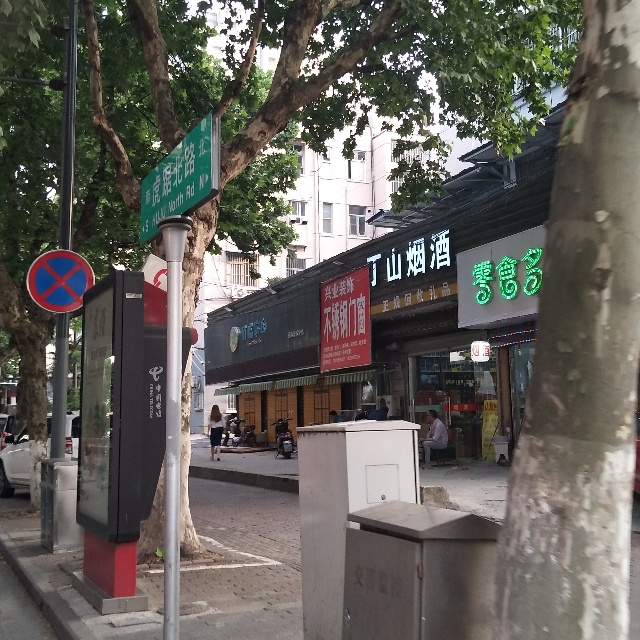stop: (26, 254, 89, 310)
